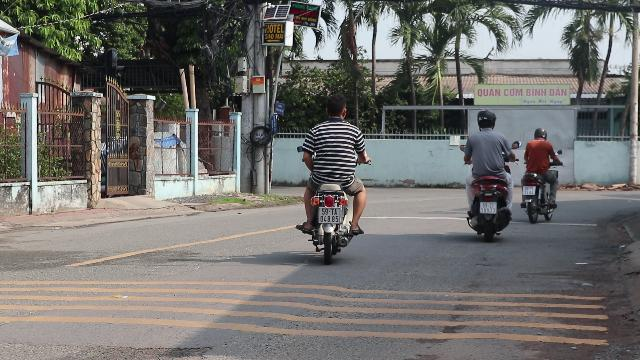helmet: (476, 109, 496, 129)
licenseplate: (319, 207, 341, 223), (480, 201, 496, 213)
motorcyclist: (294, 92, 371, 260), (460, 109, 514, 240), (518, 126, 560, 222)
nohelmet: (324, 93, 348, 119)
